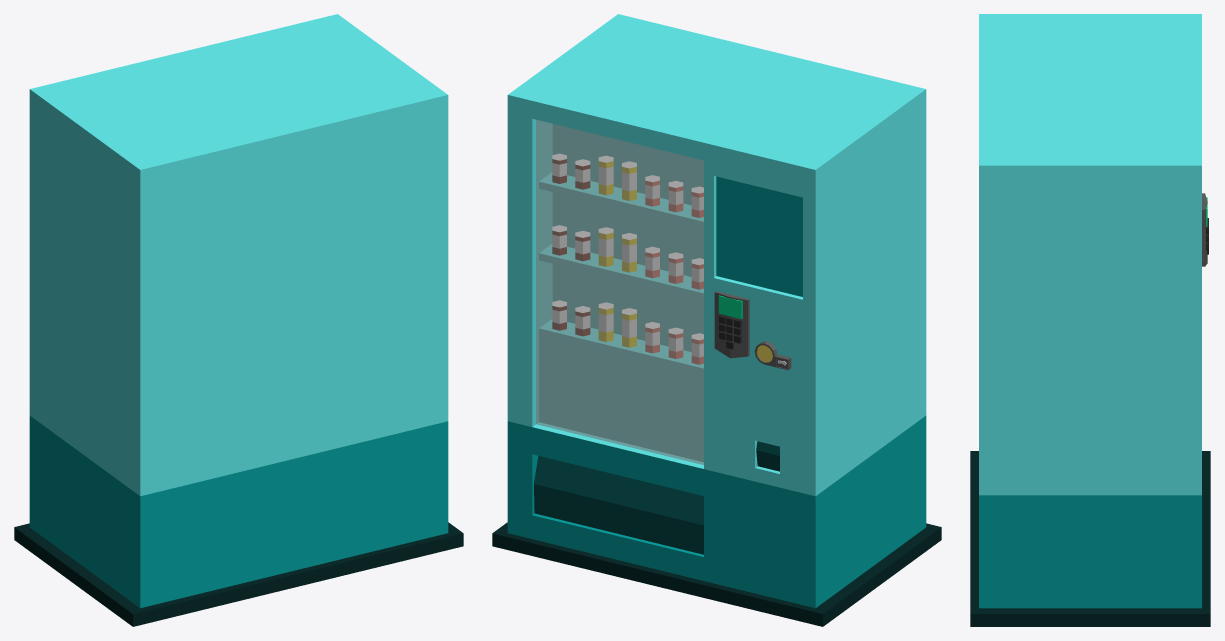
Rendered from Vending Machine.fbx.
3 renders of one model, left to right at view 1: azimuth 30°, elevation 25°; view 2: azimuth 150°, elevation 25°; view 3: azimuth 270°, elevation 25°, orthographic.
Parts seen in each view (by area): view 1: pCylinder23; view 2: pCylinder23; view 3: pCylinder23.
Part boxes in pixels (x1,y1,x2,y2): pCylinder23: (14, 14, 463, 626); pCylinder23: (492, 14, 941, 626); pCylinder23: (970, 14, 1210, 626).
Size of the model in its own units: 341 by 212 by 444.
